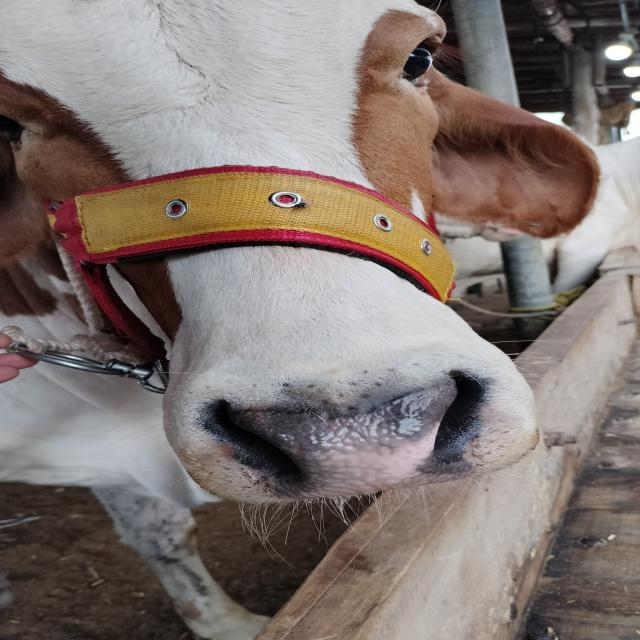muzzles: (160, 366, 540, 506)
